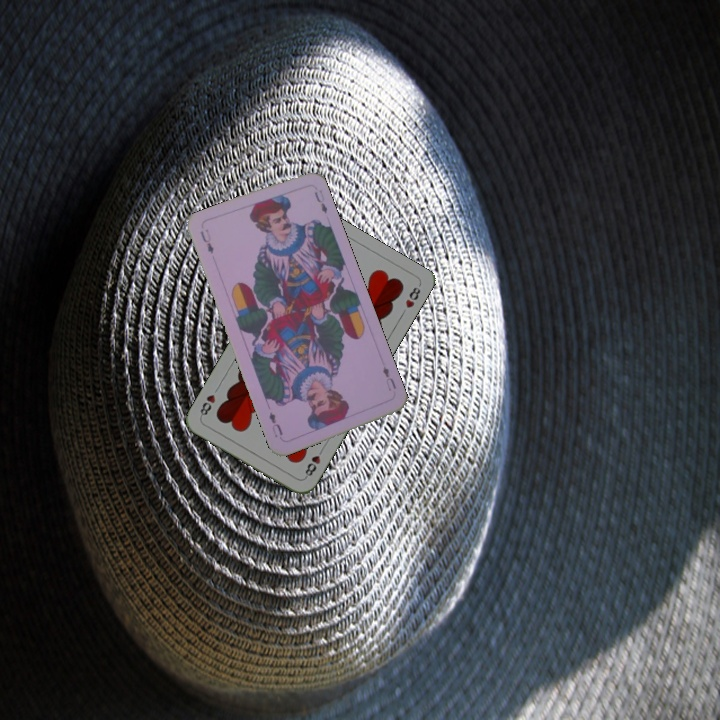EU: (378, 362, 399, 394), (196, 225, 216, 257)
H8: (301, 444, 326, 481)
